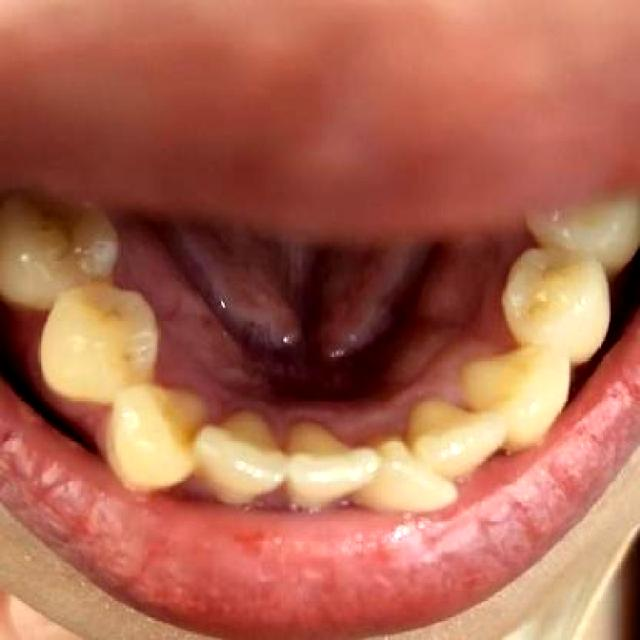Plaque: (98, 303, 143, 371)
